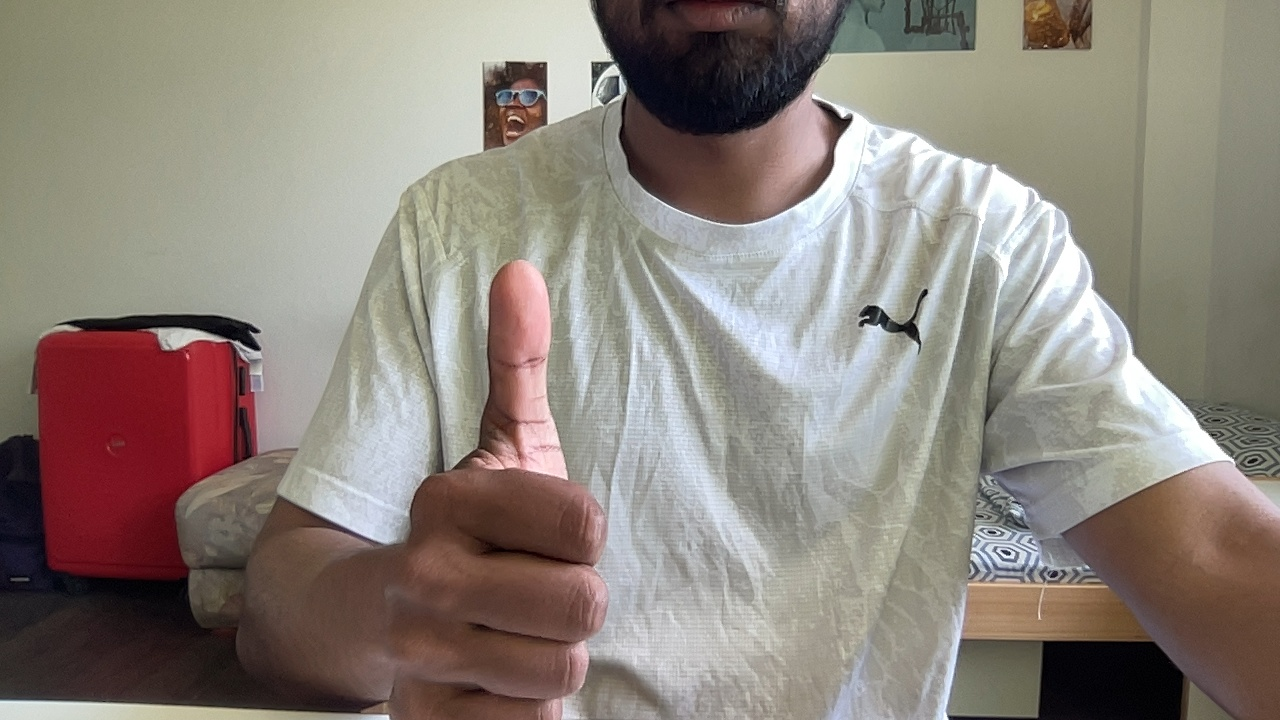ThumbsUp: (381, 257, 610, 720)
